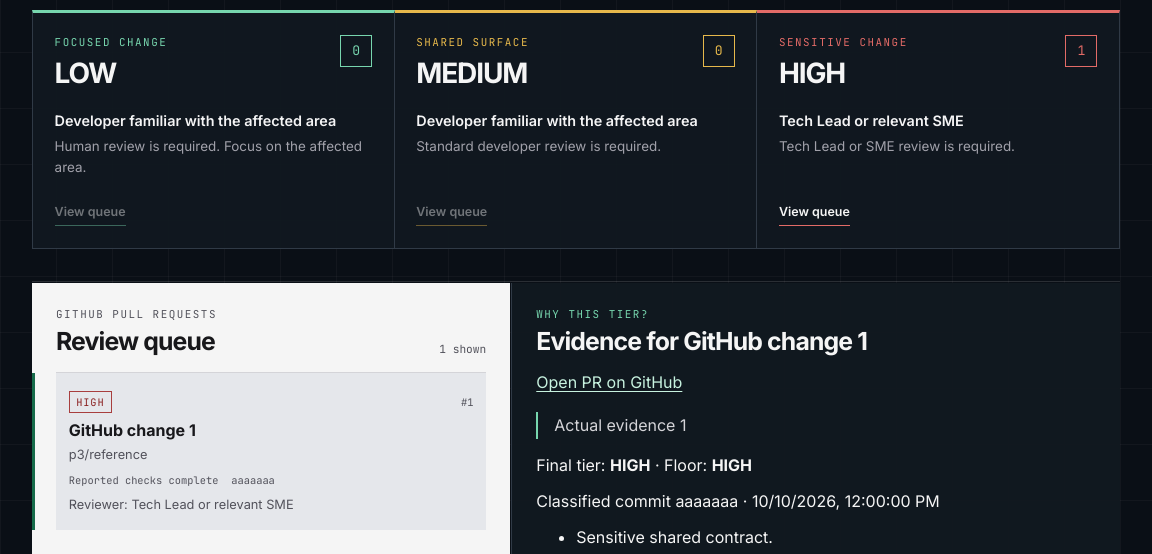
Test: live dashboard › returns to all pull requests when refreshed data invalidates the active filter
(page scrolled)
Step 1. Click the button with aria-label "Show HIGH attention pull requests" → (814, 212), box [779,199,850,226]
(page scrolled)
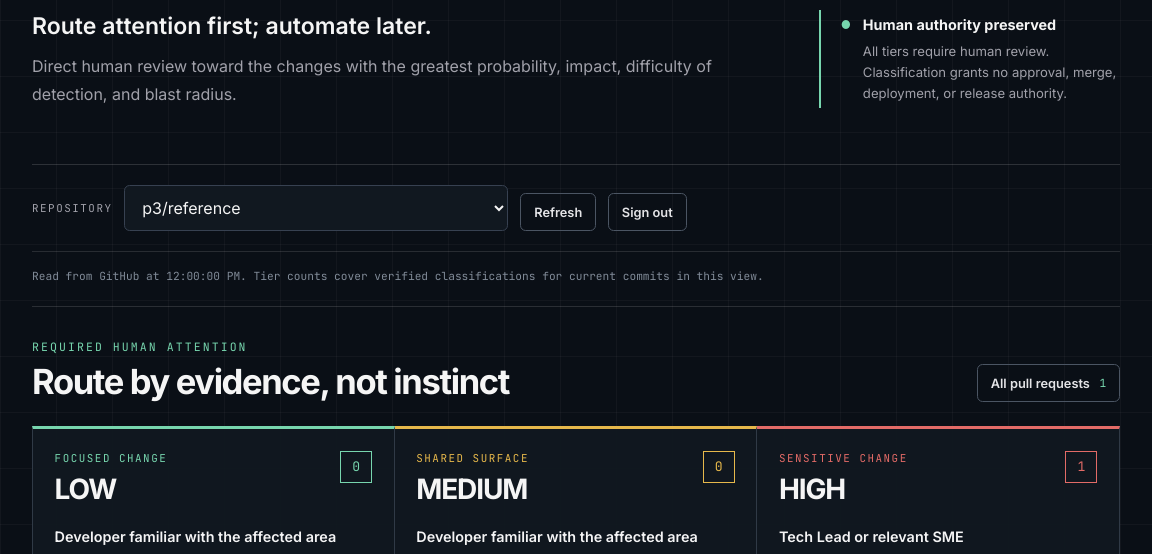
Step 2. Click the button "Refresh" → (558, 212), box [520,193,596,231]
(page scrolled)
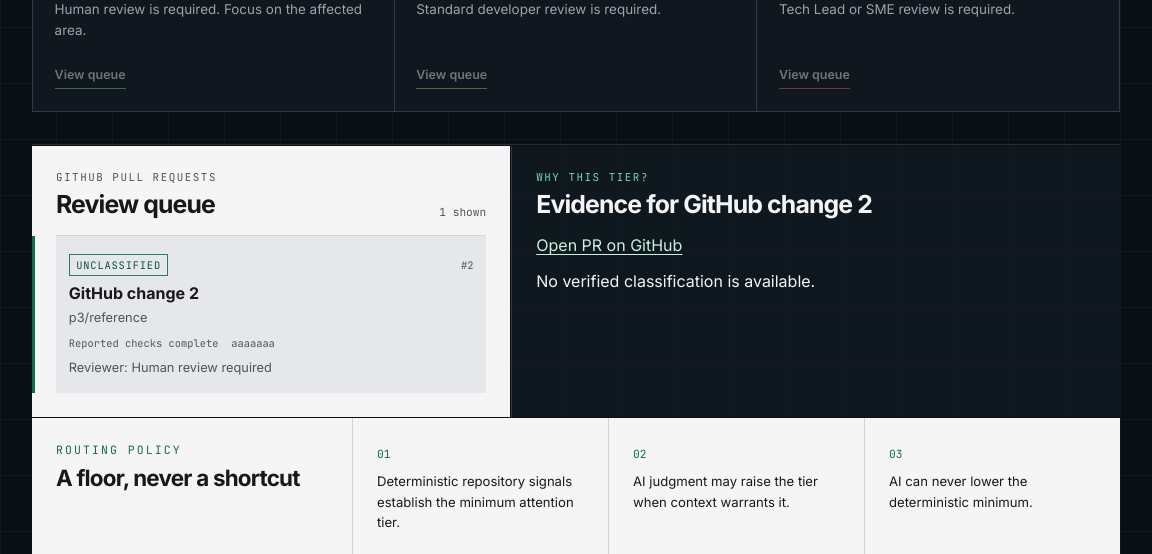
Expected: the text "1 shown" is shown, [439,205,486,219]
Expected: the text "GitHub change 2" is shown, [69,283,199,303]
